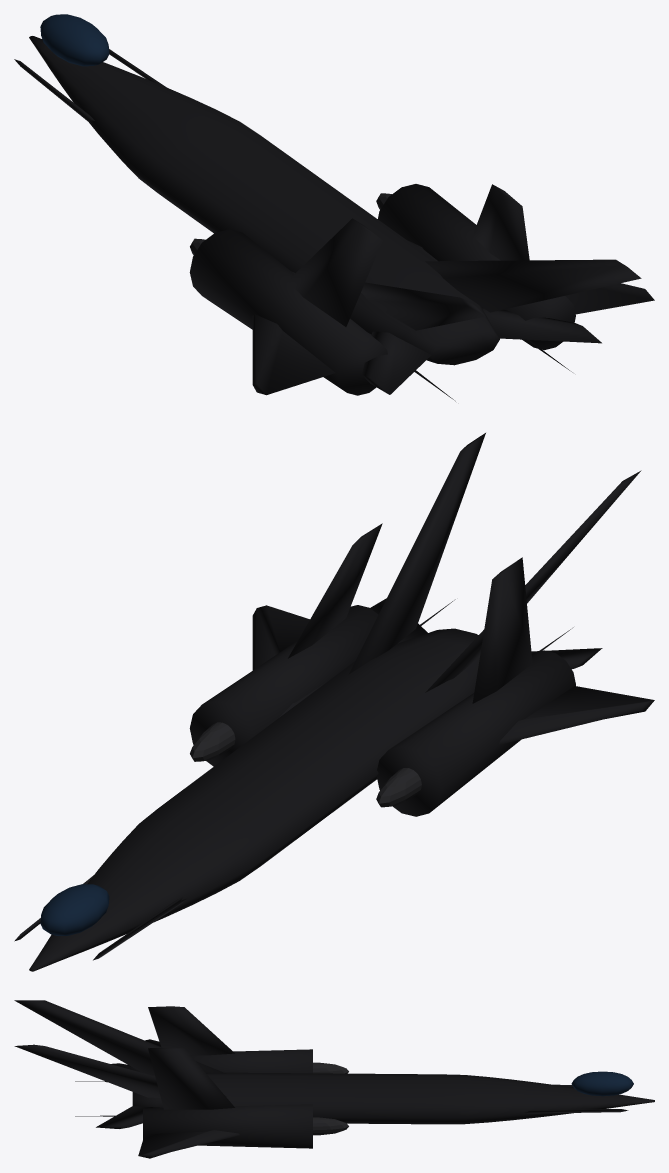
3 renders of one model, top to bottom at view 1: azimuth 30°, elevation 25°; view 2: azimuth 150°, elevation 25°; view 3: azimuth 270°, elevation 25°, orthographic. The views are drawn at different scales.
Parts seen in each view (by area): view 1: Body, Canopy; view 2: Body, Canopy, Detail; view 3: Body, Canopy, Detail.
Boxes of the visible parts, x1,y1,x2,y2 form: Body: (14,36,654,401); Canopy: (40,14,109,66); Body: (14,433,654,971); Canopy: (40,884,109,935); Detail: (190,722,421,807); Body: (14,1000,654,1158); Canopy: (571,1071,633,1096); Detail: (313,1062,348,1135).
Bounding box in the file's own units: 16.9 × 6.66 × 40.13.
